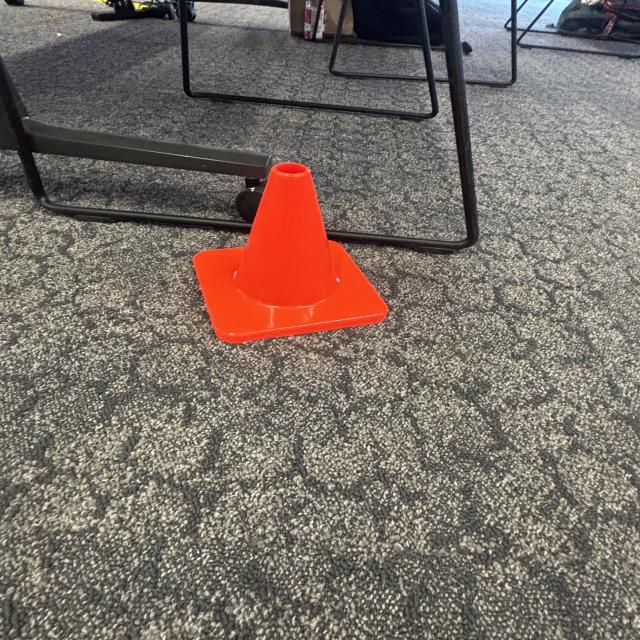Traffic Cone: (183, 159, 391, 343)
